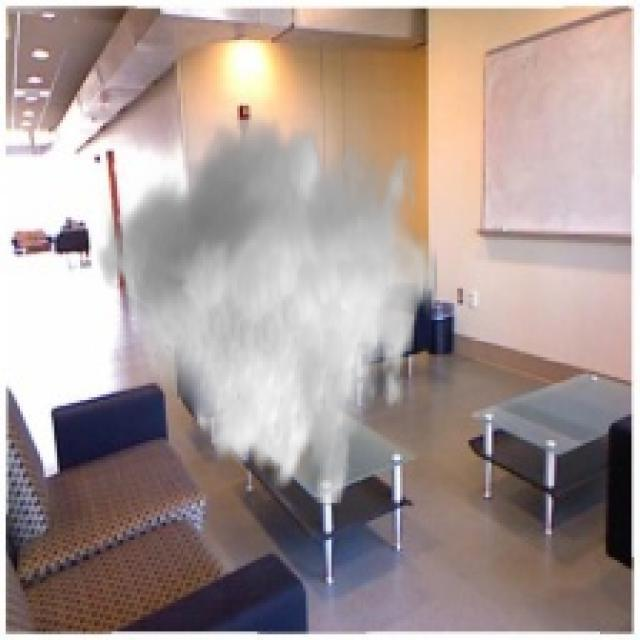Smoke: (92, 114, 437, 506)
